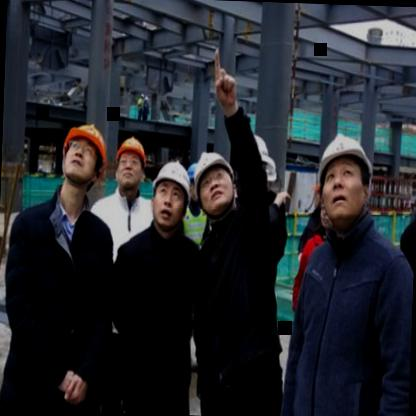head: (311, 138, 379, 232)
helmet: (312, 130, 378, 235), (53, 116, 112, 194), (190, 146, 242, 226), (150, 152, 194, 236), (113, 134, 150, 196)
